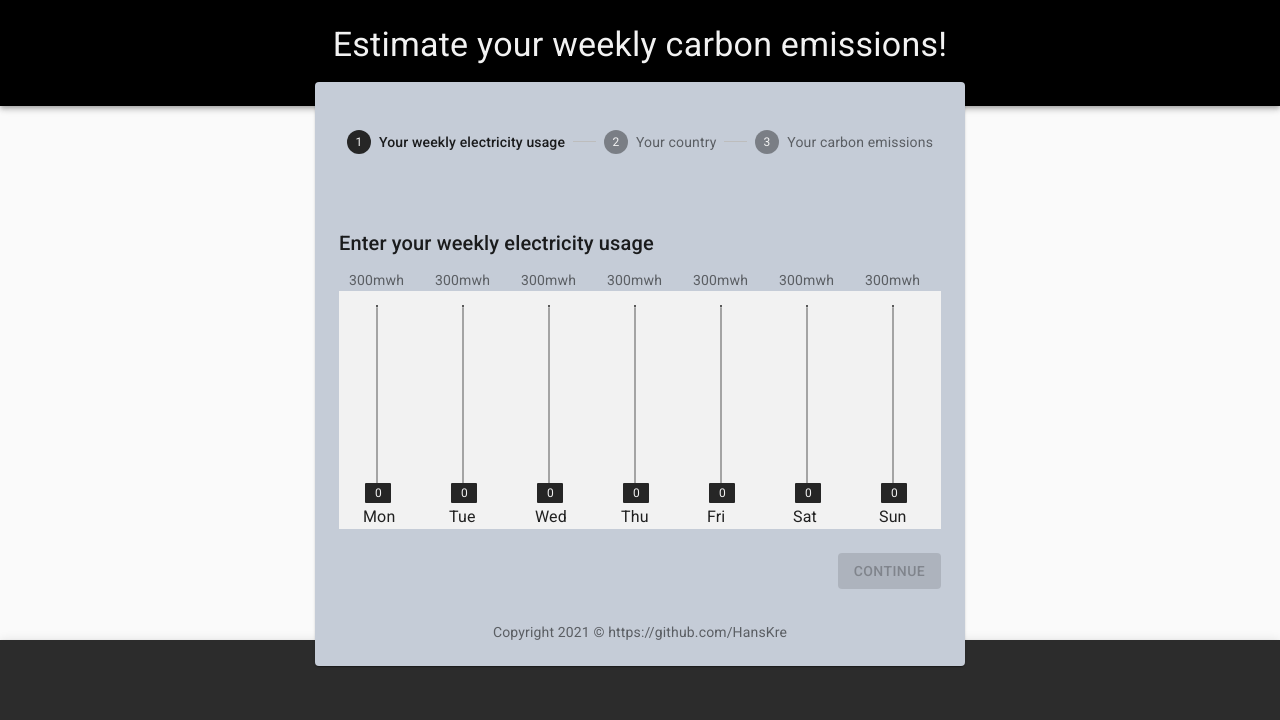
Scenario: User Journey › Desktop › Country Form Interactions › continue-button should be disabled and back-button enabled
Click the 4th slider labelled "0" at (636,493), box [623,483,649,503]
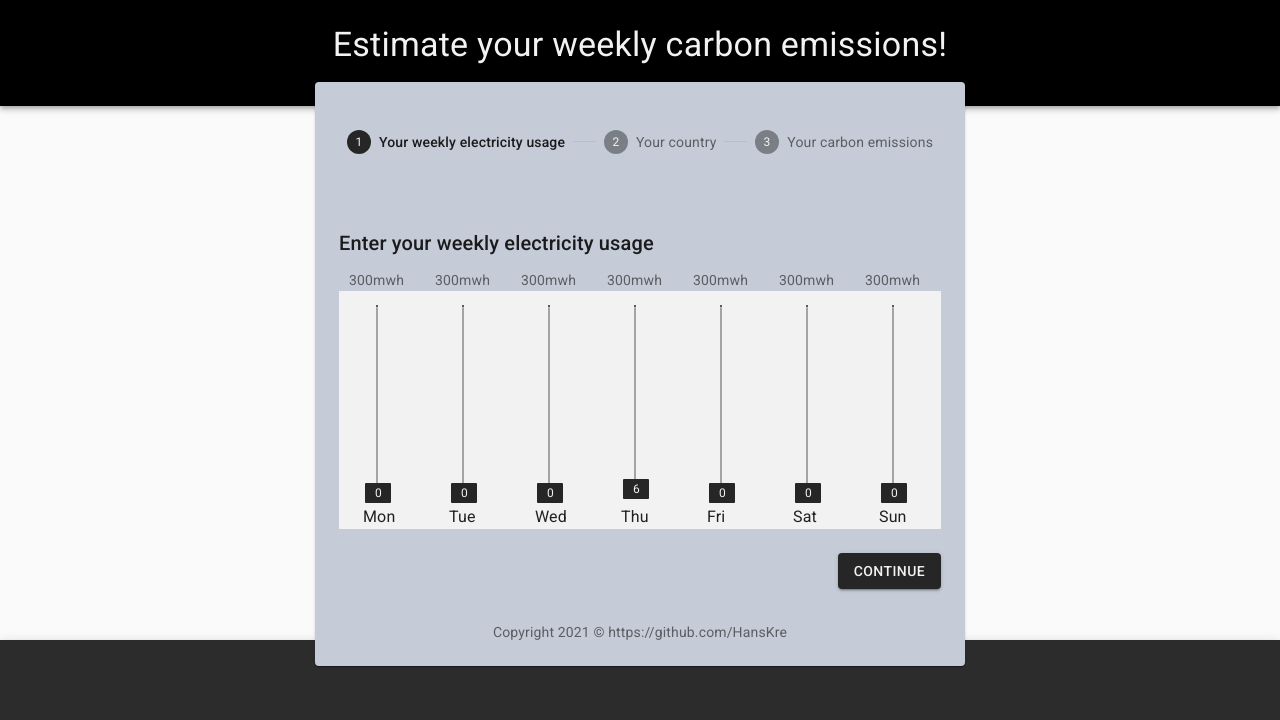
Click the button with id "continue-btn" at (890,572), box [838,553,941,590]
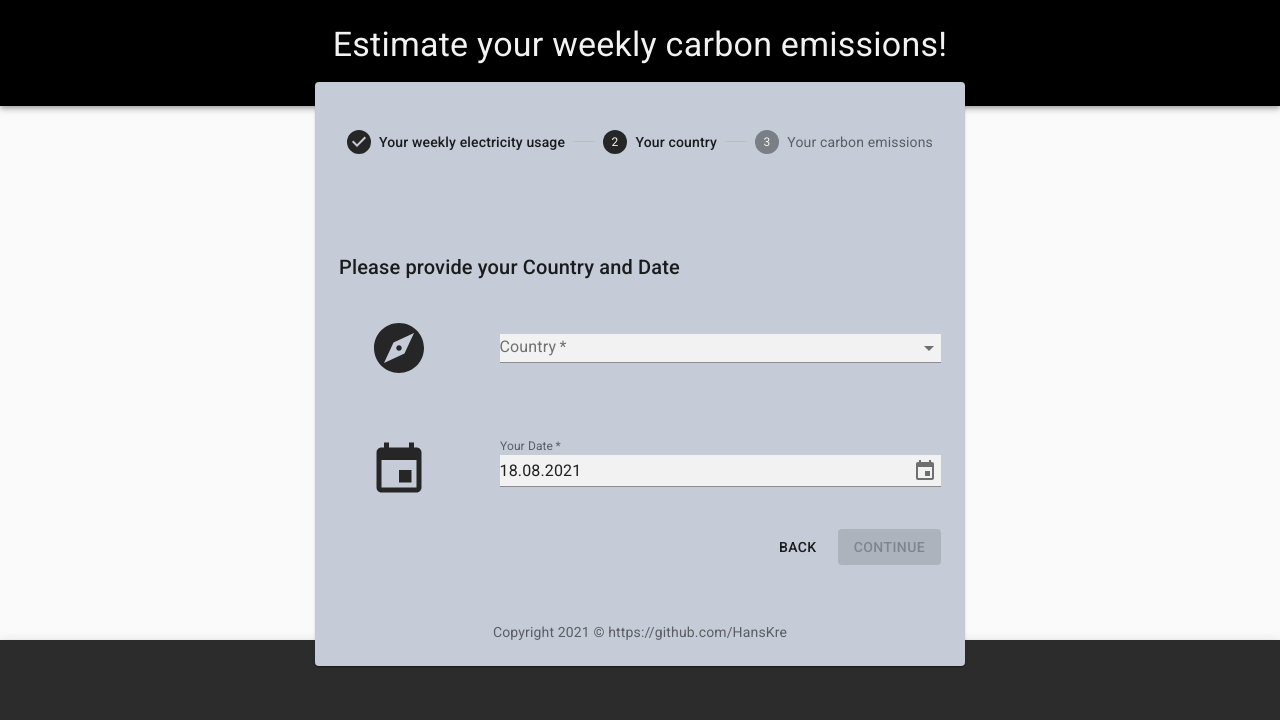
Expected: the heading "Please provide your Country and Date" is shown, [339,255,680,279]
Expected: the button with id "continue-btn" is disabled, [838,529,941,566]
Expected: the button with id "back-btn" is enabled, [766,529,830,566]
